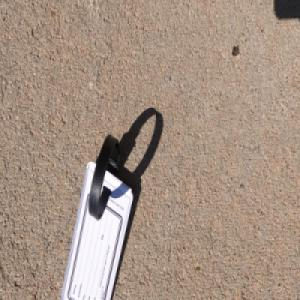LuggageTag: (61, 131, 135, 300)
